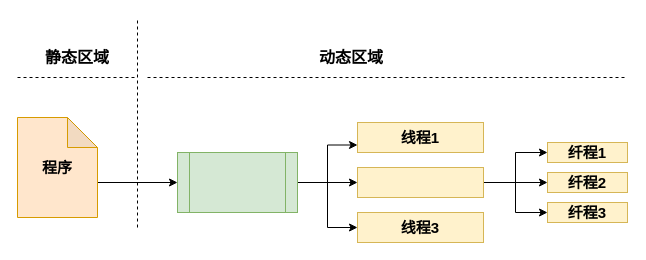
This 646x260 diagram has some shape labels left out. Here are the shapes that lost their labels. From the top down, the centre of each, then its label:
(x=237, y=182): 进程
(x=420, y=182): 线程2
